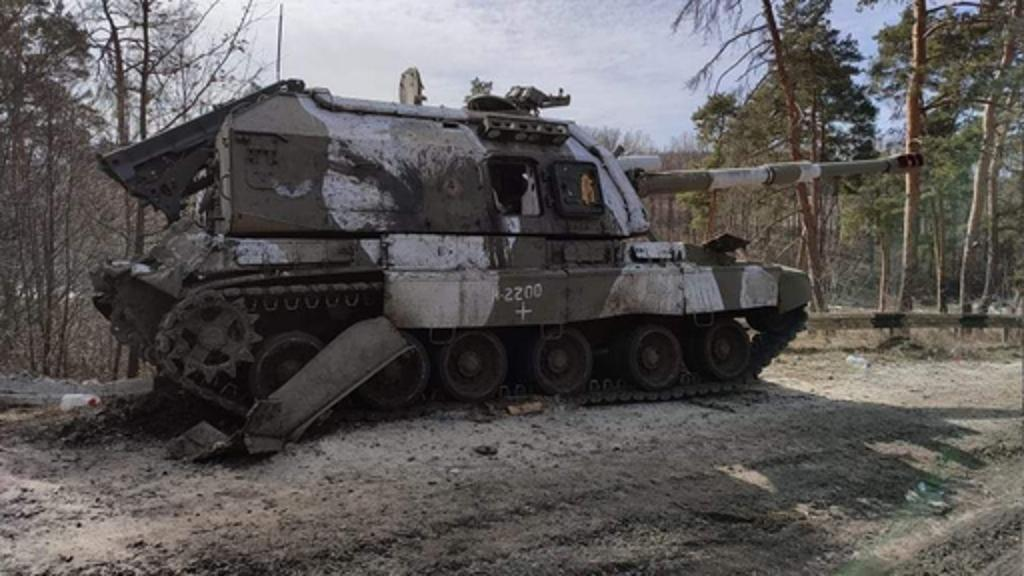ART: (118, 88, 934, 434)
